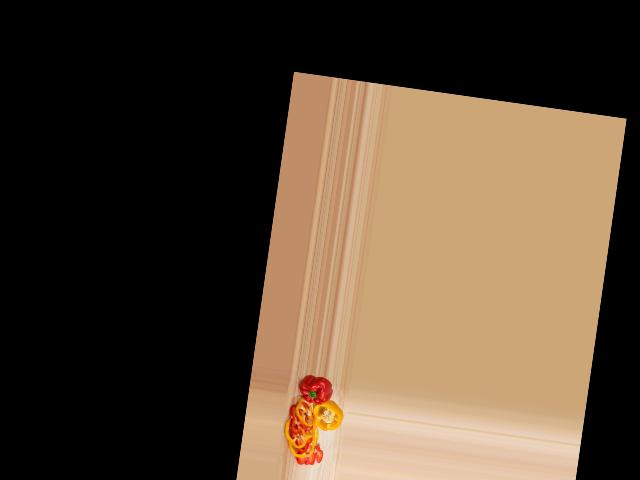bell_pepper: (310, 399, 346, 434)
